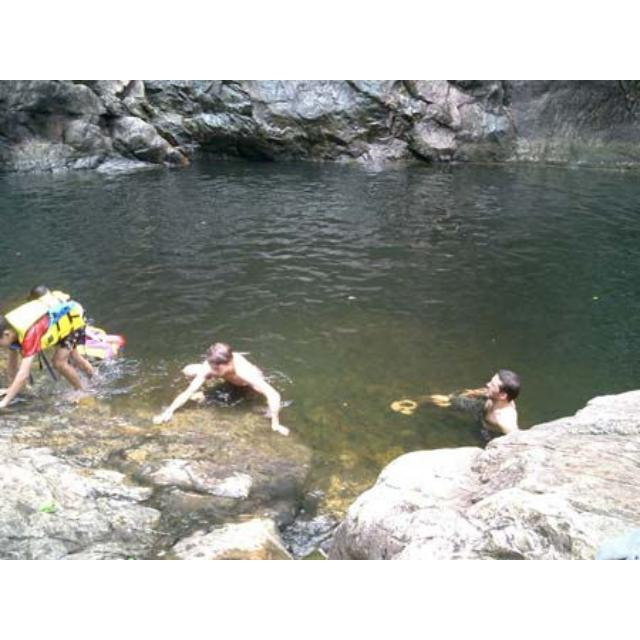human: (159, 342, 291, 442), (1, 289, 101, 415), (413, 367, 519, 438)
